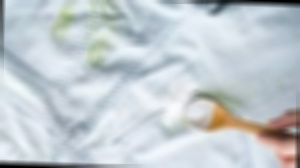earth: (89, 0, 118, 30), (51, 9, 75, 37), (90, 40, 103, 66)
